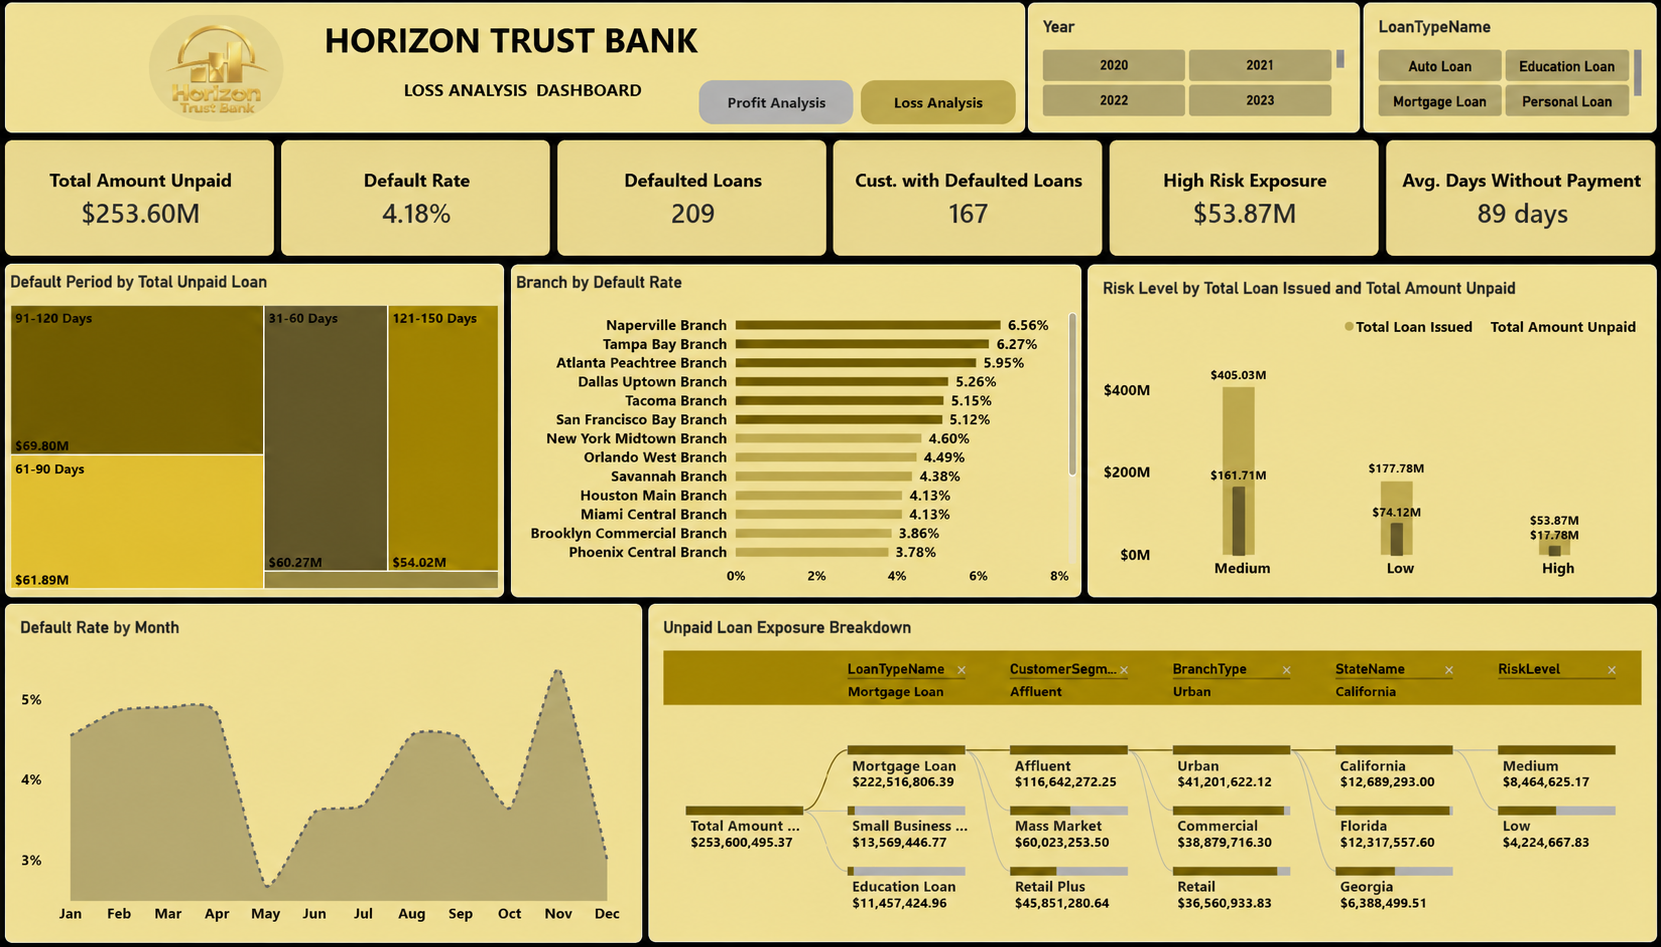

This screenshot's page, from the dashboard's own definition file:
{"tool":"powerbi","page":{"name":"Loss Analysis","canvas":[1920,1080],"ordinal":1},"visuals":[{"type":"cardVisual","fields":{"Data":["MeasureDim(LossAnalysis).Total Amount Unpaid","MeasureDim(LossAnalysis).Default Rate","MeasureDim(LossAnalysis).Loan Default","MeasureDim(LossAnalysis).Total Default Customers","MeasureDim(LossAnalysis).High Risk Exposure","MeasureDim(LossAnalysis).Avg. Days Without Payment"]},"box":[43.3,163.1,1833.8,128.1],"z":0},{"type":"advancedSlicerVisual","fields":{"Values":["LoanTypeDim.LoanTypeName"]},"box":[1548.1,11.1,325.3,143.8],"z":1000},{"type":"textbox","box":[43.3,11.1,1130.7,143.8],"z":2000},{"type":"image","box":[203,24.5,149.3,116.1],"z":3000},{"type":"treemap","title":"Default Period by Total Unpaid Loan","fields":{"Group":["LoanFact.LoanDefaultPeriod"],"Values":["MeasureDim(LossAnalysis).Total Amount Unpaid"]},"box":[43.3,299.5,552.9,368.6],"z":4000},{"type":"clusteredBarChart","title":"Branch by Default Rate","fields":{"Category":["BranchDim.BranchName"],"Y":["MeasureDim(LossAnalysis).Default Rate"]},"box":[603.6,300.4,633.1,367.7],"z":5000},{"type":"clusteredColumnChart","title":"Risk Level by Total Loan Issued and Total Amount Unpaid","fields":{"Category":["LoanFact.RiskLevel"],"Y":["MeasuresDim (ProfitAnalysis).Total Loan Issued","MeasureDim(LossAnalysis).Total Amount Unpaid"]},"box":[1243.1,300.4,630,368],"z":6000},{"type":"lineChart","title":"Default Rate by Month","fields":{"Category":["CalanderDim.Monnth(SF)"],"Y":["MeasureDim(LossAnalysis).Default Rate"]},"box":[43.3,675.5,705.9,375.1],"z":7000},{"type":"decompositionTreeVisual","title":"Unpaid Loan Exposure Breakdown","fields":{"Analyze":["MeasureDim(LossAnalysis).Total Amount Unpaid"],"ExplainBy":["LoanTypeDim.LoanTypeName","CustomerDim.CustomerSegment","BranchDim.BranchType","StateDim.StateName","LoanFact.RiskLevel"]},"box":[755.6,675.5,1117.8,374.1],"z":8000},{"type":"advancedSlicerVisual","fields":{"Values":["CalanderDim.Year"]},"box":[1176.9,10.9,367.9,144.1],"z":9000},{"type":"pageNavigator","box":[811.8,96.9,352.4,49.8],"z":10000}]}

Visuals, with their boxes in screenshot pixels (x1, y1, x2, y2), scaled from the page's 1920x1080 canvas onto the 1661x947 screenshot:
cardVisual - MeasureDim(LossAnalysis).Total Amount Unpaid x MeasureDim(LossAnalysis).Default Rate: Rect(37, 143, 1624, 255)
advancedSlicerVisual - LoanTypeDim.LoanTypeName: Rect(1339, 10, 1621, 136)
textbox: Rect(37, 10, 1016, 136)
image: Rect(176, 21, 305, 123)
"Default Period by Total Unpaid Loan" treemap: Rect(37, 263, 516, 586)
"Branch by Default Rate" clusteredBarChart: Rect(522, 263, 1070, 586)
"Risk Level by Total Loan Issued and Total Amount Unpaid" clusteredColumnChart: Rect(1075, 263, 1620, 586)
"Default Rate by Month" lineChart: Rect(37, 592, 648, 921)
"Unpaid Loan Exposure Breakdown" decompositionTreeVisual: Rect(654, 592, 1621, 920)
advancedSlicerVisual - CalanderDim.Year: Rect(1018, 10, 1336, 136)
pageNavigator: Rect(702, 85, 1007, 129)
